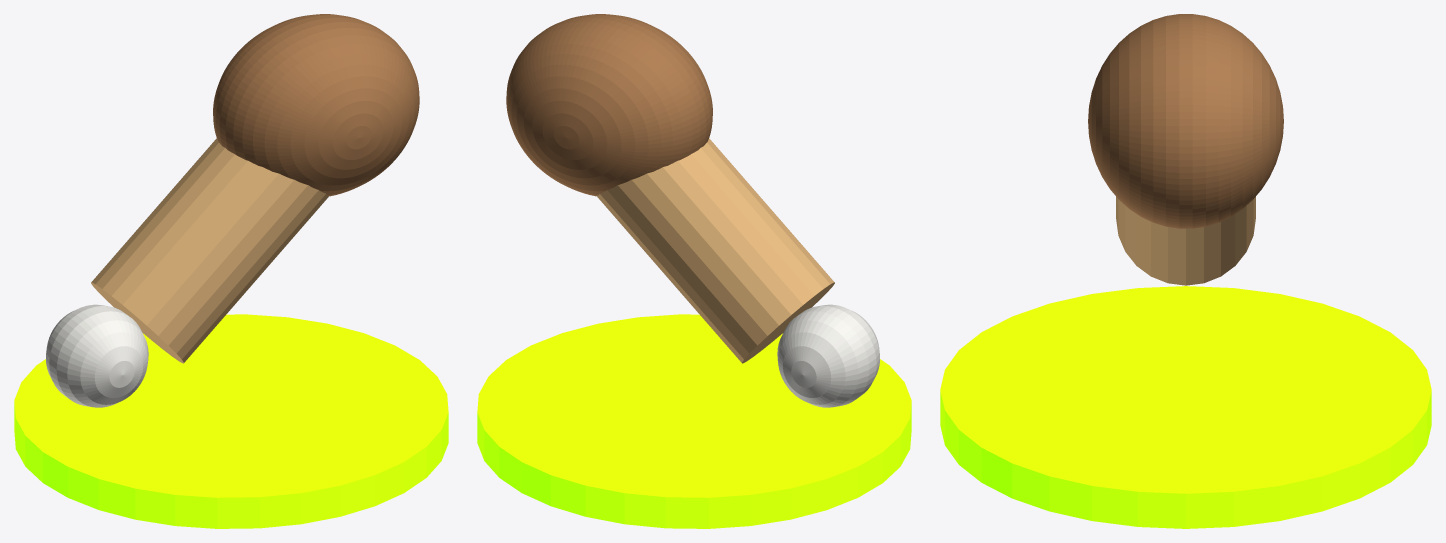
File: food_chicken_drumstick.glb
3 renders of one model, left to right at view 1: azimuth 30°, elevation 25°; view 2: azimuth 150°, elevation 25°; view 3: azimuth 270°, elevation 25°, orthographic. The views are drawn at different scales.
Parts seen in each view (by area): view 1: 01_08_Popular_Food_Chicken_Drumstick_ROOT_base, 01_08_Popular_Food_Chicken_Drumstick_part_02, 01_08_Popular_Food_Chicken_Drumstick_part_01, 01_08_Popular_Food_Chicken_Drumstick_part_03; view 2: 01_08_Popular_Food_Chicken_Drumstick_ROOT_base, 01_08_Popular_Food_Chicken_Drumstick_part_02, 01_08_Popular_Food_Chicken_Drumstick_part_01, 01_08_Popular_Food_Chicken_Drumstick_part_03; view 3: 01_08_Popular_Food_Chicken_Drumstick_ROOT_base, 01_08_Popular_Food_Chicken_Drumstick_part_02, 01_08_Popular_Food_Chicken_Drumstick_part_01.
Boxes of the visible parts, <box> form: 01_08_Popular_Food_Chicken_Drumstick_ROOT_base: <box>14,314,448,528</box>; 01_08_Popular_Food_Chicken_Drumstick_part_02: <box>213,14,419,196</box>; 01_08_Popular_Food_Chicken_Drumstick_part_01: <box>91,138,329,363</box>; 01_08_Popular_Food_Chicken_Drumstick_part_03: <box>46,304,148,407</box>; 01_08_Popular_Food_Chicken_Drumstick_ROOT_base: <box>477,314,911,528</box>; 01_08_Popular_Food_Chicken_Drumstick_part_02: <box>506,14,712,196</box>; 01_08_Popular_Food_Chicken_Drumstick_part_01: <box>596,138,834,363</box>; 01_08_Popular_Food_Chicken_Drumstick_part_03: <box>777,304,879,407</box>; 01_08_Popular_Food_Chicken_Drumstick_ROOT_base: <box>940,286,1431,528</box>; 01_08_Popular_Food_Chicken_Drumstick_part_02: <box>1088,14,1283,228</box>; 01_08_Popular_Food_Chicken_Drumstick_part_01: <box>1116,197,1255,285</box>.
Size of the model in its own units: 0.76 by 0.7585 by 0.76.
